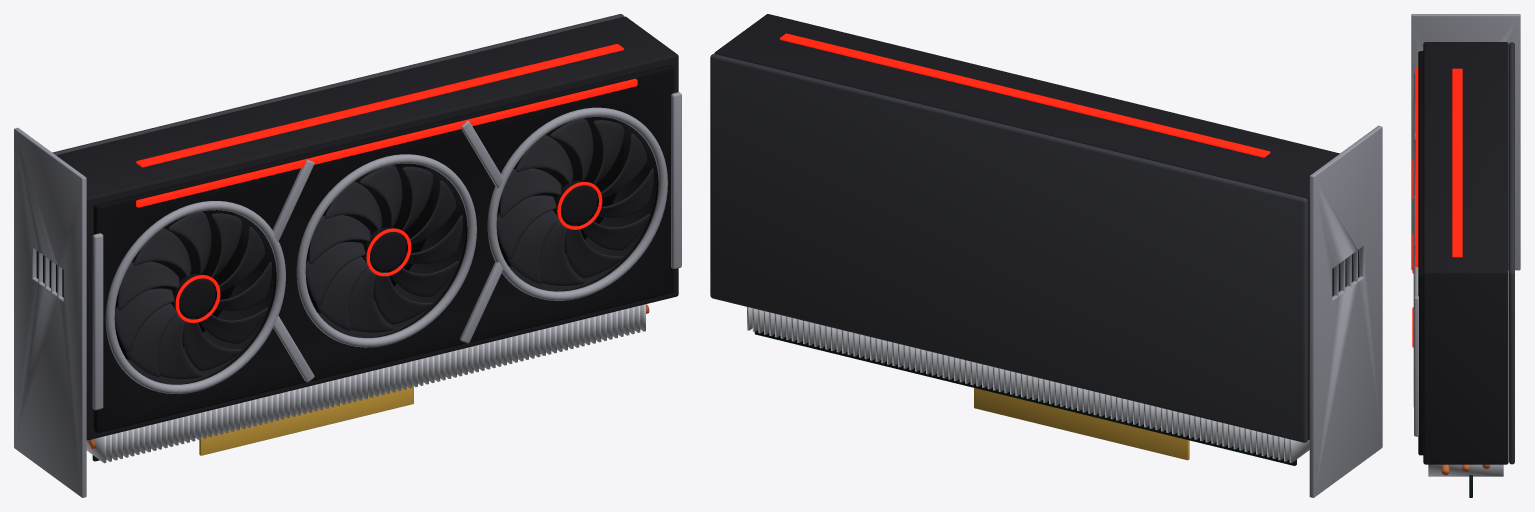
Rendered from gpu.glb.
3 renders of one model, left to right at view 1: azimuth 30°, elevation 25°; view 2: azimuth 150°, elevation 25°; view 3: azimuth 270°, elevation 25°, orthographic. The views are drawn at different scales.
Parts seen in each view (by area): view 1: acc, fascia, body, fin, rgb, back0, pcie, back, b1_6, b2_6, b0_6, b0_5 (+32 smaller); view 2: back, body, acc, fin, pcie, rgb, pcb; view 3: body, acc, rgb, back, fascia, fin, pipe0.
Part boxes in pixels (box(x1,y1,x2,y2)): acc: box(14, 92, 681, 497); fascia: box(93, 64, 674, 432); body: box(36, 16, 678, 440); fin: box(86, 304, 645, 463); rgb: box(136, 44, 637, 207); back0: box(115, 117, 623, 359); pcie: box(199, 385, 413, 455); back: box(52, 14, 624, 155); b1_6: box(305, 242, 365, 306); b2_6: box(496, 195, 556, 259); b0_6: box(114, 288, 174, 352); b0_5: box(126, 303, 176, 377); back: box(710, 54, 1308, 442); body: box(714, 14, 1359, 439); acc: box(1309, 125, 1382, 497); fin: box(747, 307, 1309, 462); pcie: box(974, 388, 1189, 460); rgb: box(780, 33, 1270, 157); pcb: box(754, 330, 1296, 465); body: box(1423, 42, 1508, 464); acc: box(1411, 14, 1520, 436); rgb: box(1415, 68, 1462, 266); back: box(1509, 42, 1514, 464); fascia: box(1418, 51, 1423, 455); fin: box(1428, 464, 1503, 476); pipe0: box(1441, 464, 1490, 475).
Size of the model in its own units: 3.26 by 1.76 by 0.6402.
